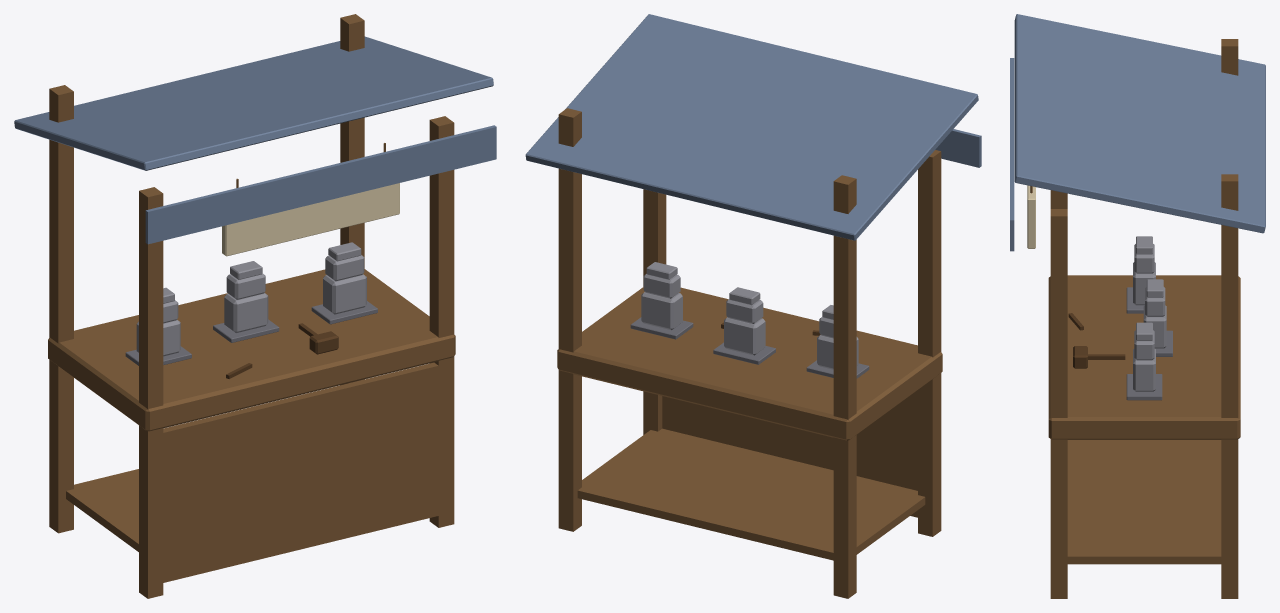
File: Prop_YTM_Stall_Stone.glb
3 renders of one model, left to right at view 1: azimuth 30°, elevation 25°; view 2: azimuth 150°, elevation 25°; view 3: azimuth 270°, elevation 25°, orthographic. The views are drawn at different scales.
Parts seen in each view (by area): view 1: Prop_YTM_Stall_Stone, Prop_YTM_Stall_Stone_Goods; view 2: Prop_YTM_Stall_Stone, Prop_YTM_Stall_Stone_Goods; view 3: Prop_YTM_Stall_Stone, Prop_YTM_Stall_Stone_Goods.
Boxes of the visible parts, x1,y1,x2,y2 form: Prop_YTM_Stall_Stone: (14, 14, 496, 598); Prop_YTM_Stall_Stone_Goods: (125, 242, 377, 378); Prop_YTM_Stall_Stone: (525, 14, 981, 598); Prop_YTM_Stall_Stone_Goods: (630, 262, 869, 378); Prop_YTM_Stall_Stone: (1010, 14, 1265, 598); Prop_YTM_Stall_Stone_Goods: (1068, 236, 1172, 400).
Size of what is drawn, in the model's own units: 1.8 by 2.24 by 1.2.
